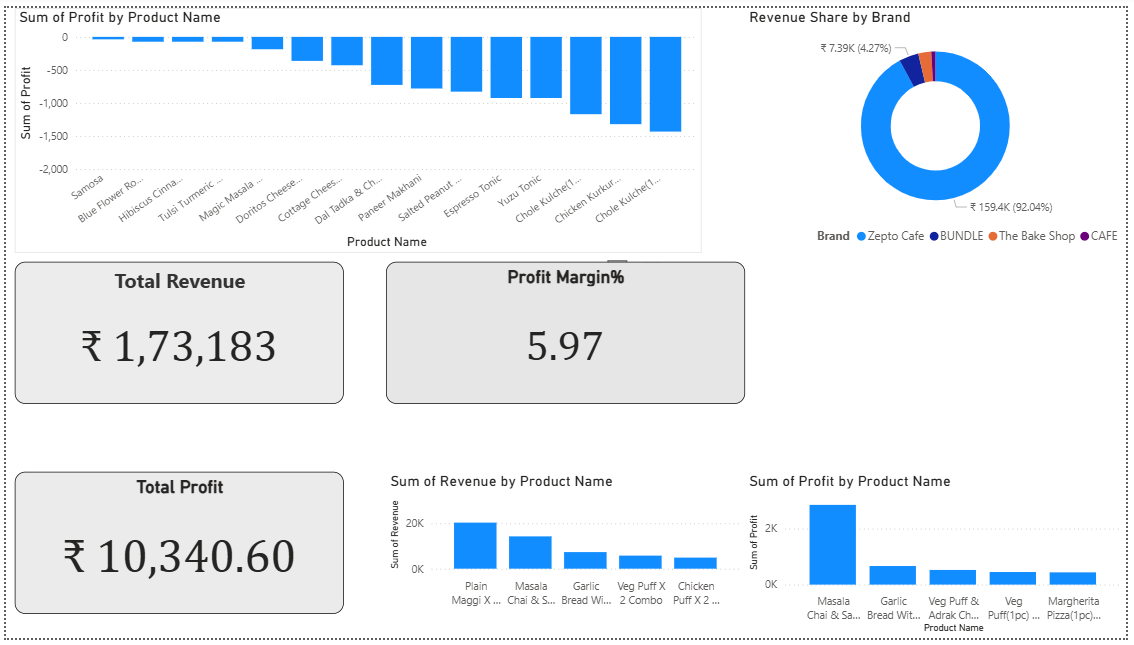

The dashboard page shown, as its layout file describes it:
{"tool":"powerbi","page":{"name":"Page 2","canvas":[1280,720],"ordinal":1},"visuals":[{"type":"clusteredColumnChart","fields":{"Category":["Zepto Cafe.Product Name"],"Y":["Sum(Zepto Cafe.Profit)"]},"box":[10,0,785.6,280],"z":0},{"type":"card","title":"Total Revenue","fields":{"Values":["Sum(Zepto Cafe.Revenue)"]},"box":[10,290,376,162],"z":1000},{"type":"card","title":"Total Profit","fields":{"Values":["Sum(Zepto Cafe.Profit)"]},"box":[10,530,376,162],"z":2000},{"type":"card","title":"Profit Margin%","fields":{"Values":["Zepto Cafe.Profit Margin %"]},"box":[434,290,410,162],"z":3000},{"type":"clusteredColumnChart","fields":{"Category":["Zepto Cafe.Product Name"],"Y":["Sum(Zepto Cafe.Revenue)"]},"box":[434,530,410,162],"z":4000},{"type":"clusteredColumnChart","fields":{"Y":["Sum(Zepto Cafe.Profit)"],"Category":["Zepto Cafe.Product Name"]},"box":[844,530,436,190],"z":5000},{"type":"donutChart","title":"Revenue Share by Brand","fields":{"Category":["Zepto Cafe.Brand"],"Y":["Sum(Zepto Cafe.Revenue)"]},"box":[844,0,436,280],"z":6000}]}

Visuals, with their boxes in screenshot pixels (x1, y1, x2, y2), scaled from the page's 1280x720 canvas onto the 1134x645 screenshot:
clusteredColumnChart - Zepto Cafe.Product Name x Sum(Zepto Cafe.Profit): bbox=(9, 0, 705, 251)
"Total Revenue" card: bbox=(9, 260, 342, 405)
"Total Profit" card: bbox=(9, 475, 342, 620)
"Profit Margin%" card: bbox=(384, 260, 748, 405)
clusteredColumnChart - Zepto Cafe.Product Name x Sum(Zepto Cafe.Revenue): bbox=(384, 475, 748, 620)
clusteredColumnChart - Sum(Zepto Cafe.Profit) x Zepto Cafe.Product Name: bbox=(748, 475, 1133, 644)
"Revenue Share by Brand" donutChart: bbox=(748, 0, 1133, 251)
